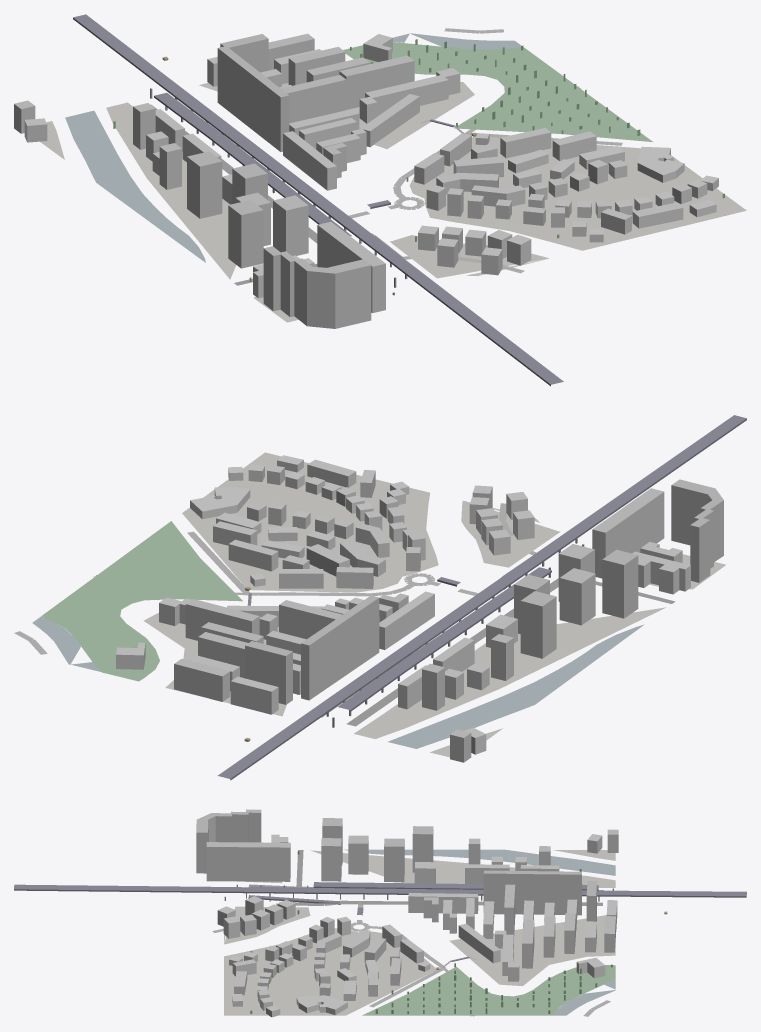
3 renders of one model, top to bottom at view 1: azimuth 30°, elevation 25°; view 2: azimuth 150°, elevation 25°; view 3: azimuth 270°, elevation 25°, orthographic. The views are drawn at different scales.
Size of the model in its own units: 516 by 59.58 by 935.
